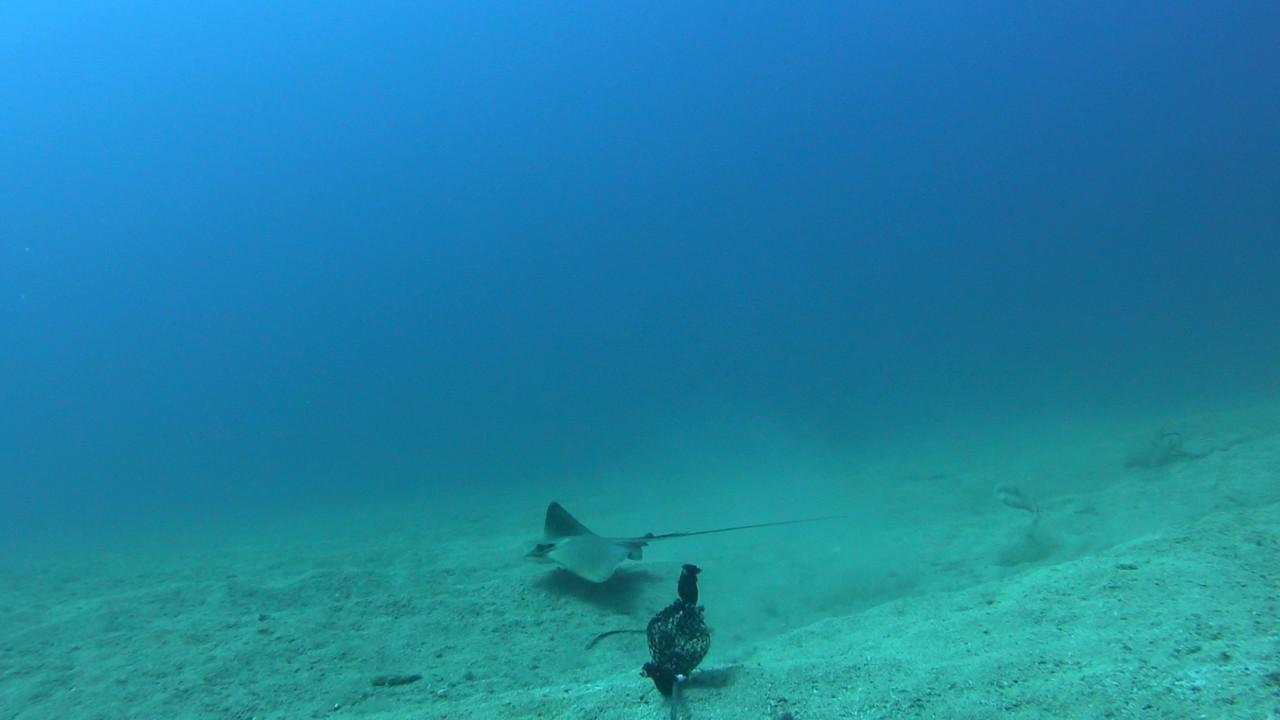myliobatis: (478, 498, 881, 578)
